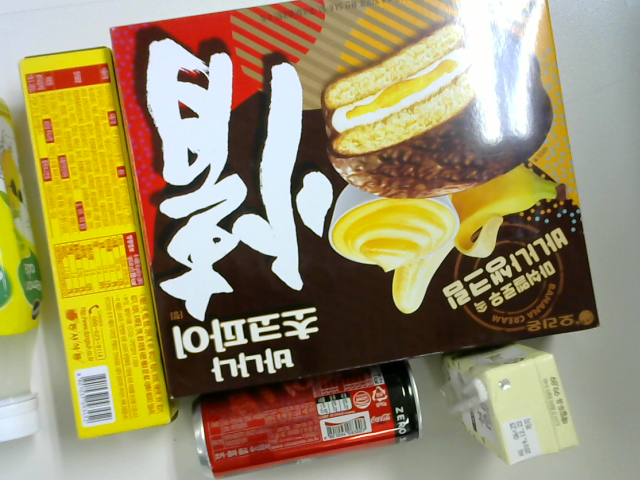99.89_Soymilk: (438, 336, 590, 478)
Choco_Pie_Banana: (104, 1, 605, 402)
Coca_Cola_Zero_Can_250ml: (178, 349, 428, 476)
Ritz_Remon_96g: (14, 46, 179, 443)
Sunkist_Lemonaid_Pet: (1, 95, 46, 460)
